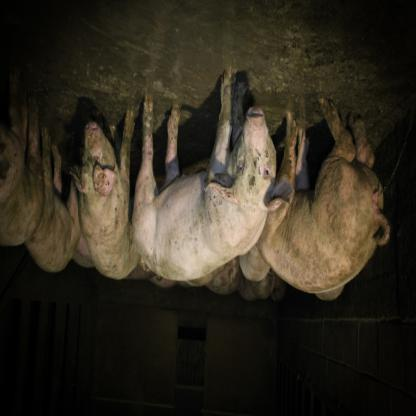boar: (0, 64, 391, 299)
